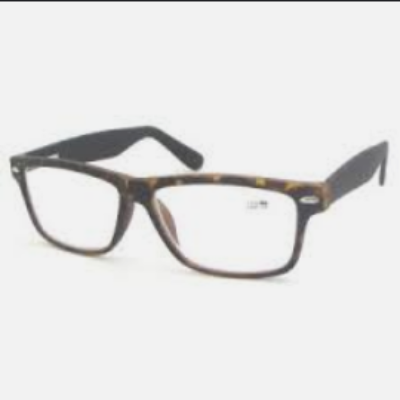glasses: (6, 121, 400, 283)
